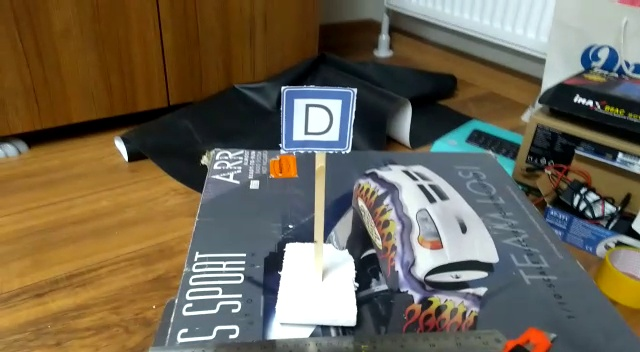durak: (270, 89, 354, 168)
